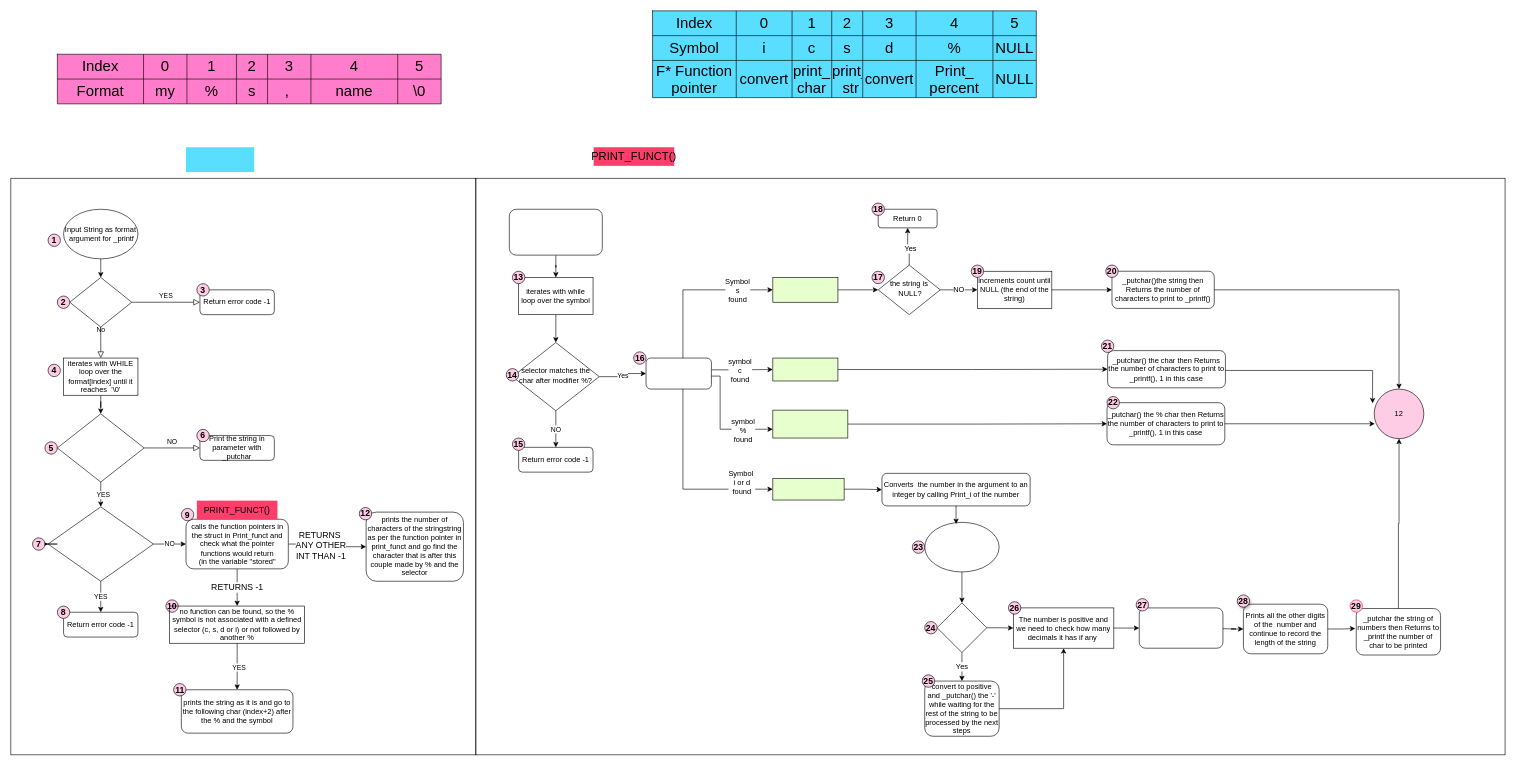
The diagram is 1516 pixels wide and 766 high, and some of its shapes have lost their labels. The centre of each missing label's shape, as x and y in pixels:
_printf(): point 220,159
called by _printf whenever a % sign is found and followed by another character: point 555,232
Calls Print_i (num): point 961,547
Convert(): point 808,489
does the string contain a % symbol Format [index] is == %: point 100,447
is % alone?: point 100,543
Is the number negative?: point 962,627
Print_char(): point 805,369
Print_percent(): point 810,424
Print_str(): point 805,289
Prints the last digit of the number and calculate the length of the number: point 1181,627
Returns the pointer function: point 678,373
string format is null ?: point 100,302
